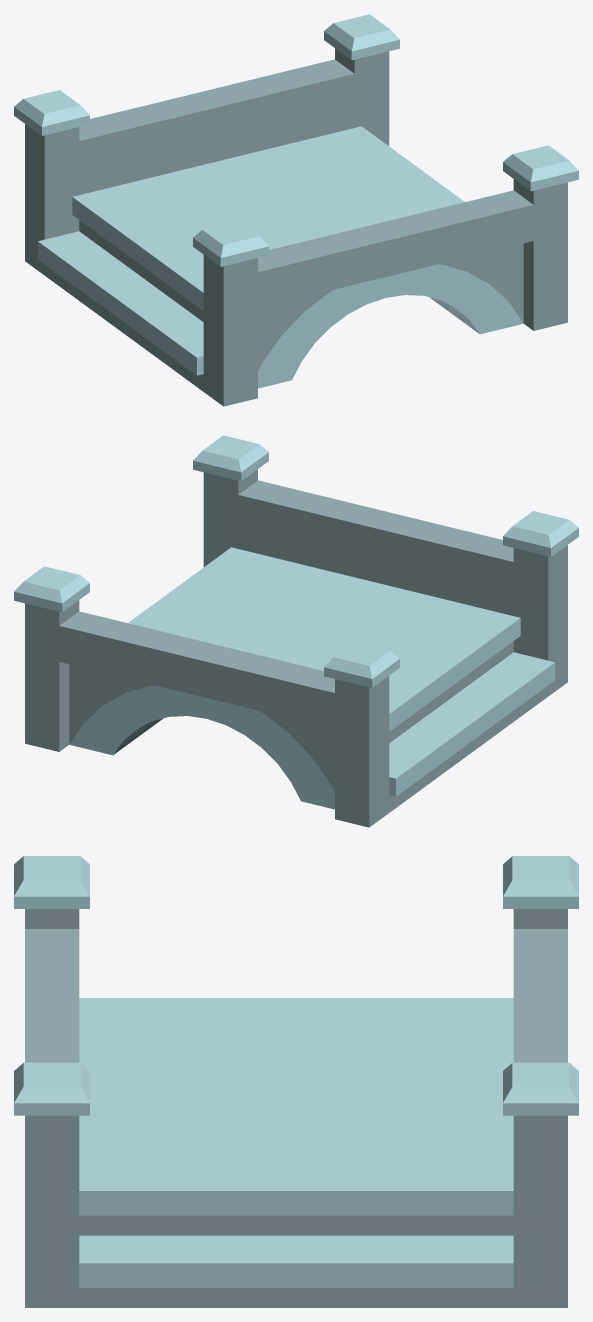
The model's file is bridge_stoneRound.obj.
The picture shows the model from 3 angles, top to bottom: view 1: azimuth 30°, elevation 25°; view 2: azimuth 150°, elevation 25°; view 3: azimuth 270°, elevation 25°; orthographic projection. The views are drawn at different scales.
Parts seen in each view (by area): view 1: bridge_stoneRound; view 2: bridge_stoneRound; view 3: bridge_stoneRound.
Part boxes in pixels (box(x1,y1,x2,y2)): bridge_stoneRound: box(14, 14, 578, 406); bridge_stoneRound: box(14, 435, 578, 827); bridge_stoneRound: box(14, 856, 578, 1307).
Bounding box in the file's own units: 1.04 × 0.45 × 1.04.
